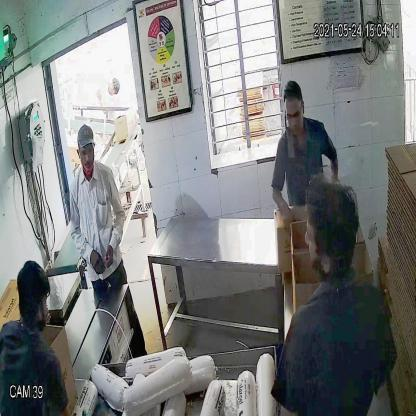goggles: (284, 103, 306, 126)
no_goggles: (75, 143, 97, 161)
